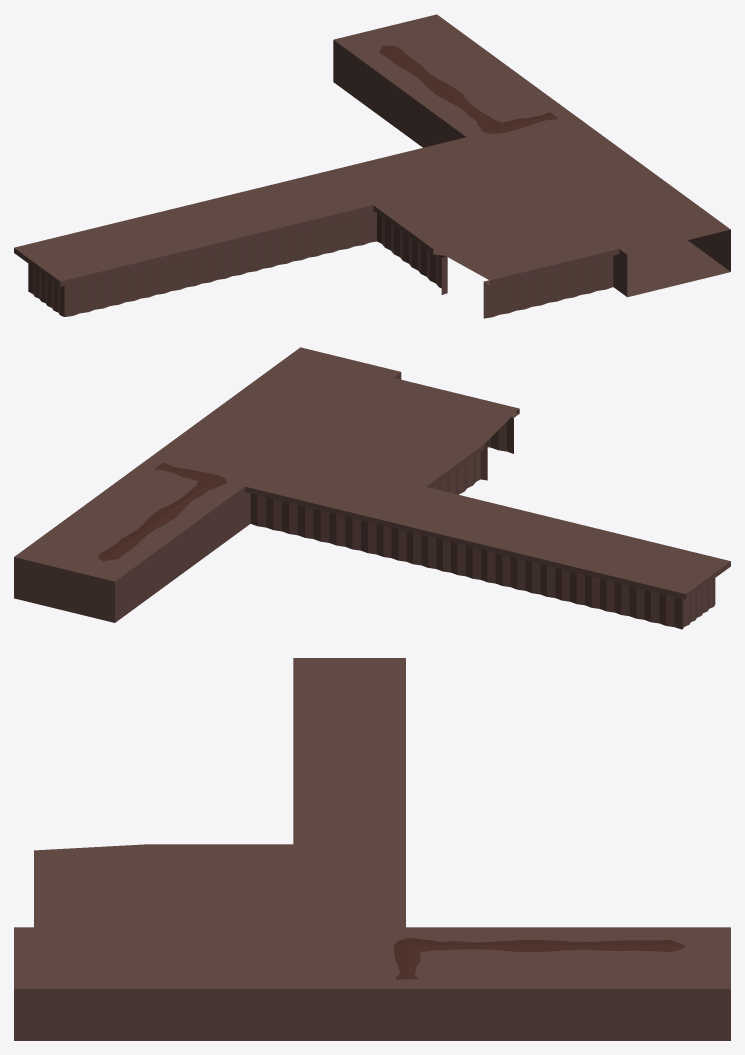
The model's file is Docks.fbx.
3 renders of one model, top to bottom at view 1: azimuth 30°, elevation 25°; view 2: azimuth 150°, elevation 25°; view 3: azimuth 270°, elevation 25°, orthographic. The views are drawn at different scales.
Visible parts, largest first — view 1: Cube.036; view 2: Cube.036; view 3: Cube.036.
Boxes of the visible parts, x1,y1,x2,y2 form: Cube.036: (14, 14, 730, 318); Cube.036: (14, 347, 730, 629); Cube.036: (14, 658, 730, 1040).
Size of the model in its own units: 65479 by 4831 by 59946.
